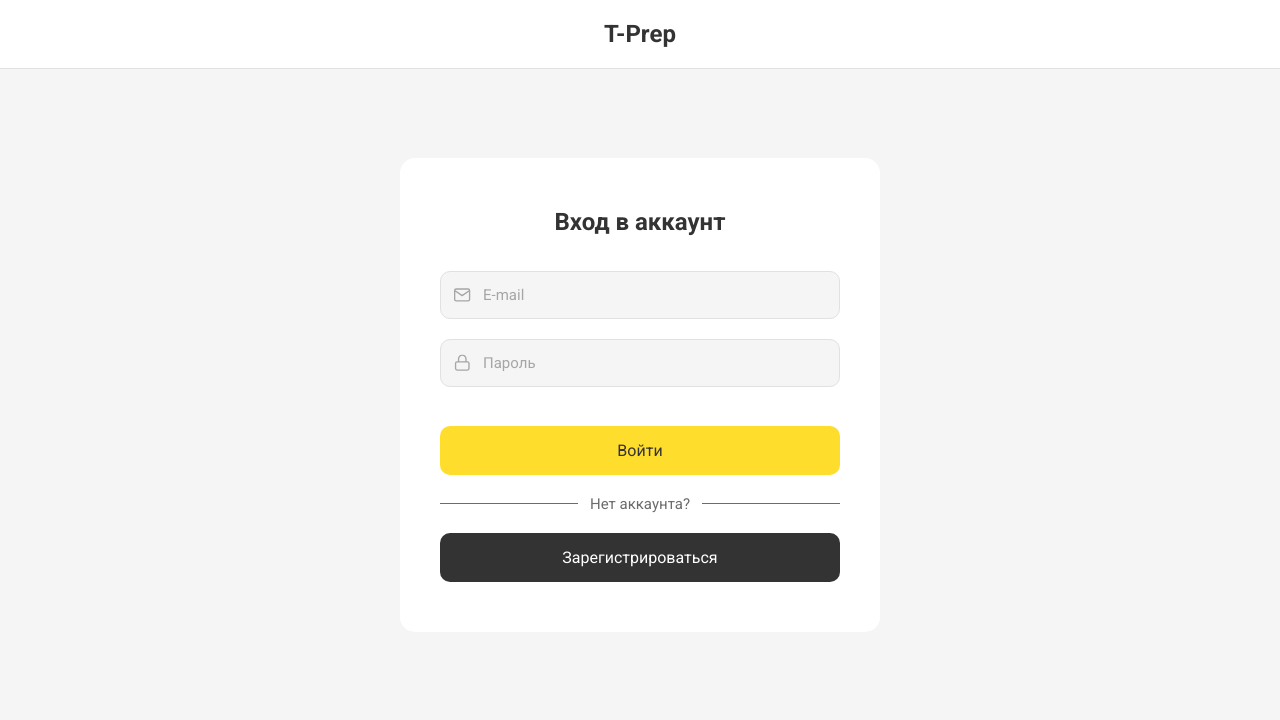
it: Login › should show auth error when server returns 401
Type "wrong@example.com" into the field with placeholder "E-mail" at (640, 294), box x1=440 y1=270 x2=840 y2=318
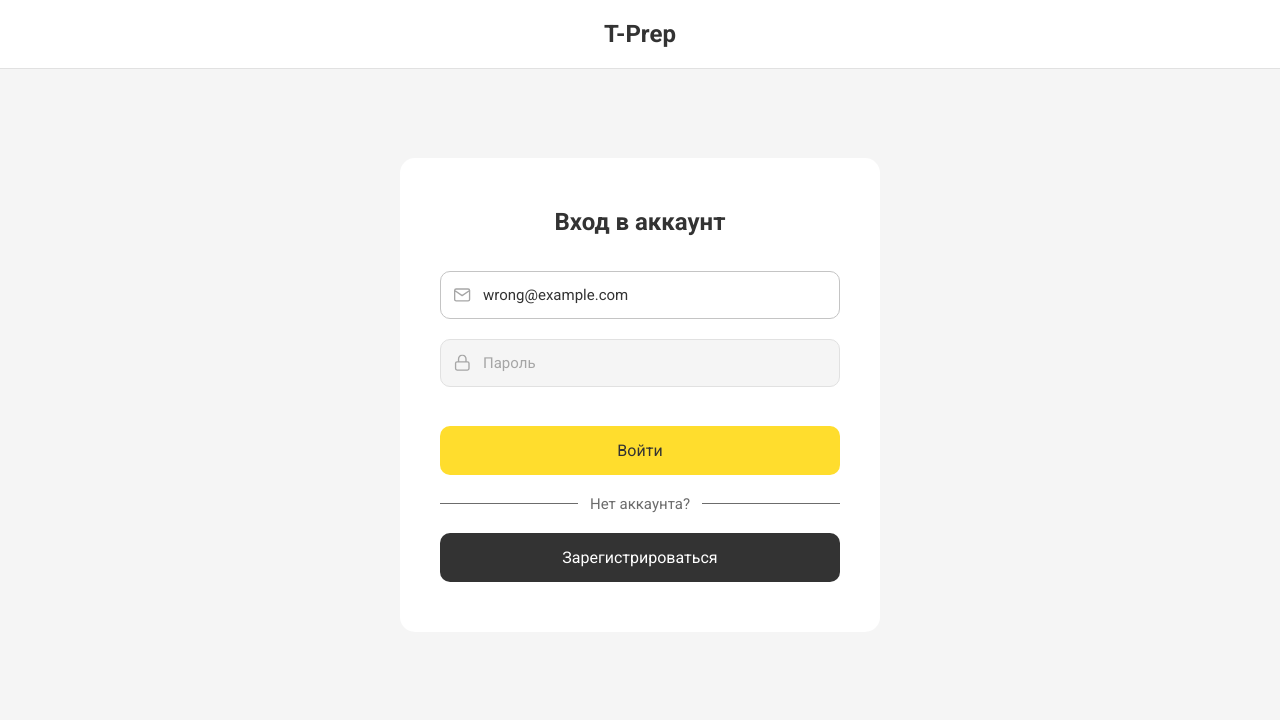
Type "wrongpass" into the password field with placeholder "Пароль" at (640, 362), box x1=440 y1=338 x2=840 y2=386
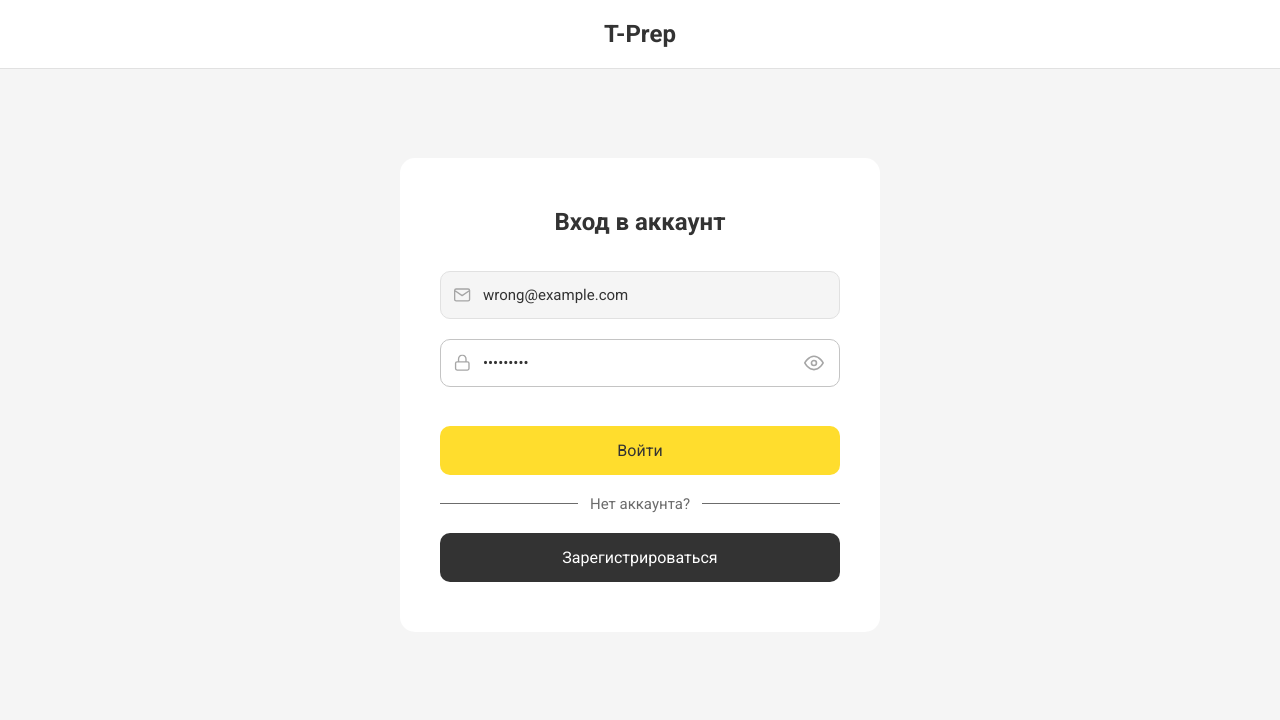
Click the button "Войти" at (640, 450), box x1=440 y1=426 x2=840 y2=474
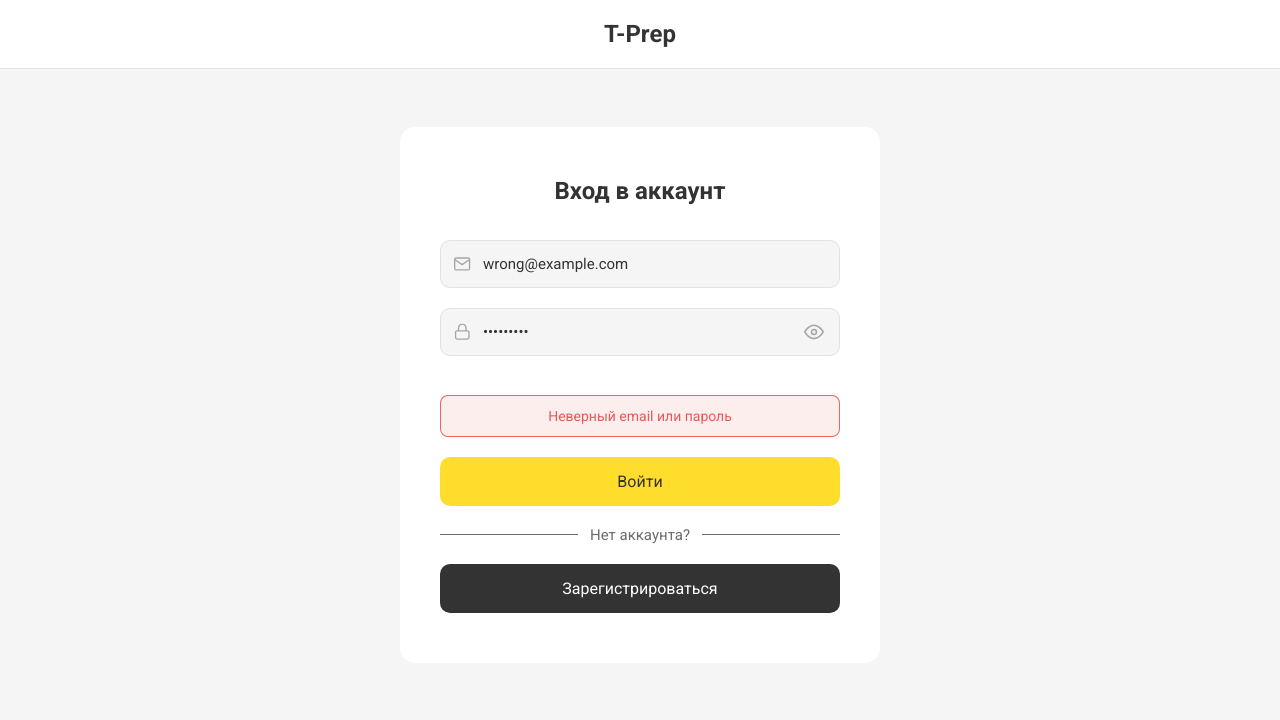
Expected: the text "Неверный email или пароль" is shown, x1=440 y1=394 x2=840 y2=436
